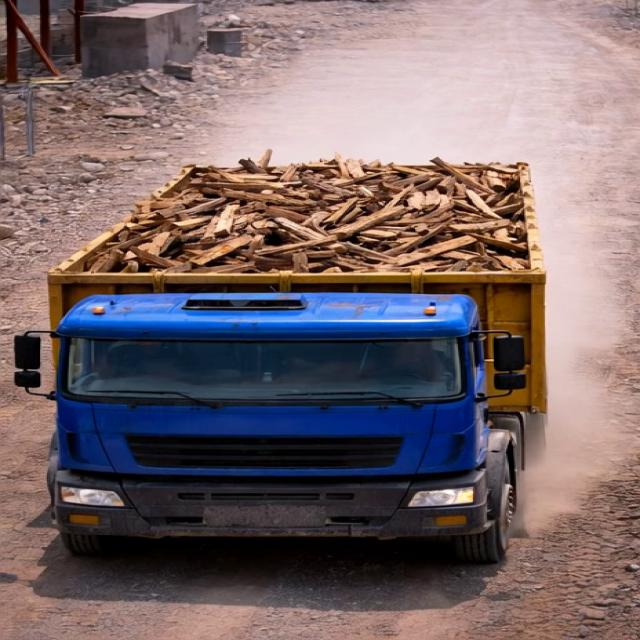trailer: (38, 158, 564, 292)
truck: (4, 141, 574, 583)
